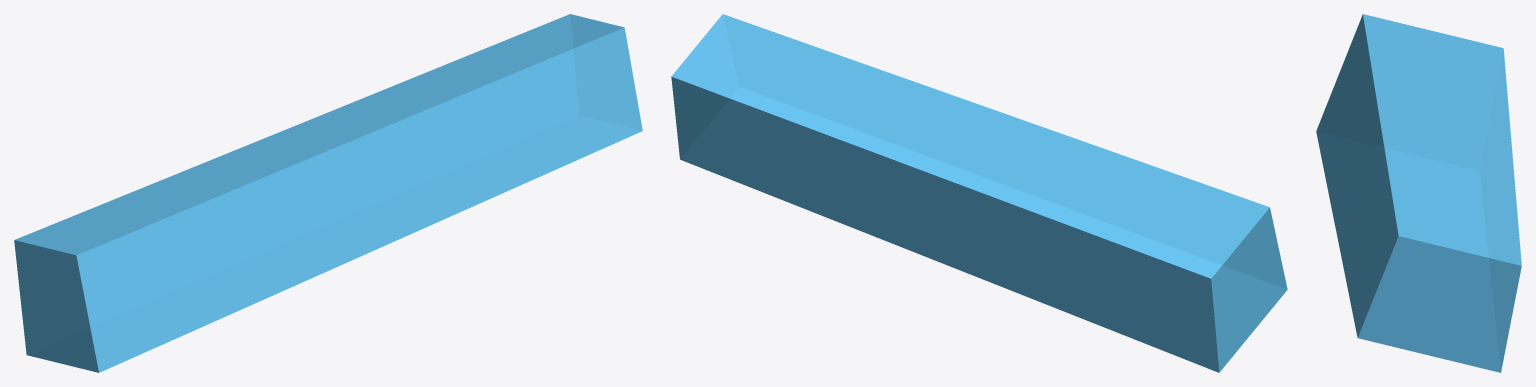
File: Event_421278790_HErechit_5.fbx
The picture shows the model from 3 angles, left to right: view 1: azimuth 30°, elevation 25°; view 2: azimuth 150°, elevation 25°; view 3: azimuth 270°, elevation 25°; orthographic projection. The views are drawn at different scales.
Visible parts, largest first — view 1: Model; view 2: Model; view 3: Model.
Boxes of the visible parts, x1,y1,x2,y2 form: Model: (14, 14, 642, 372); Model: (671, 14, 1287, 372); Model: (1316, 14, 1521, 372).
Bounding box in the file's own units: 1.45 × 0.534 × 0.406.
